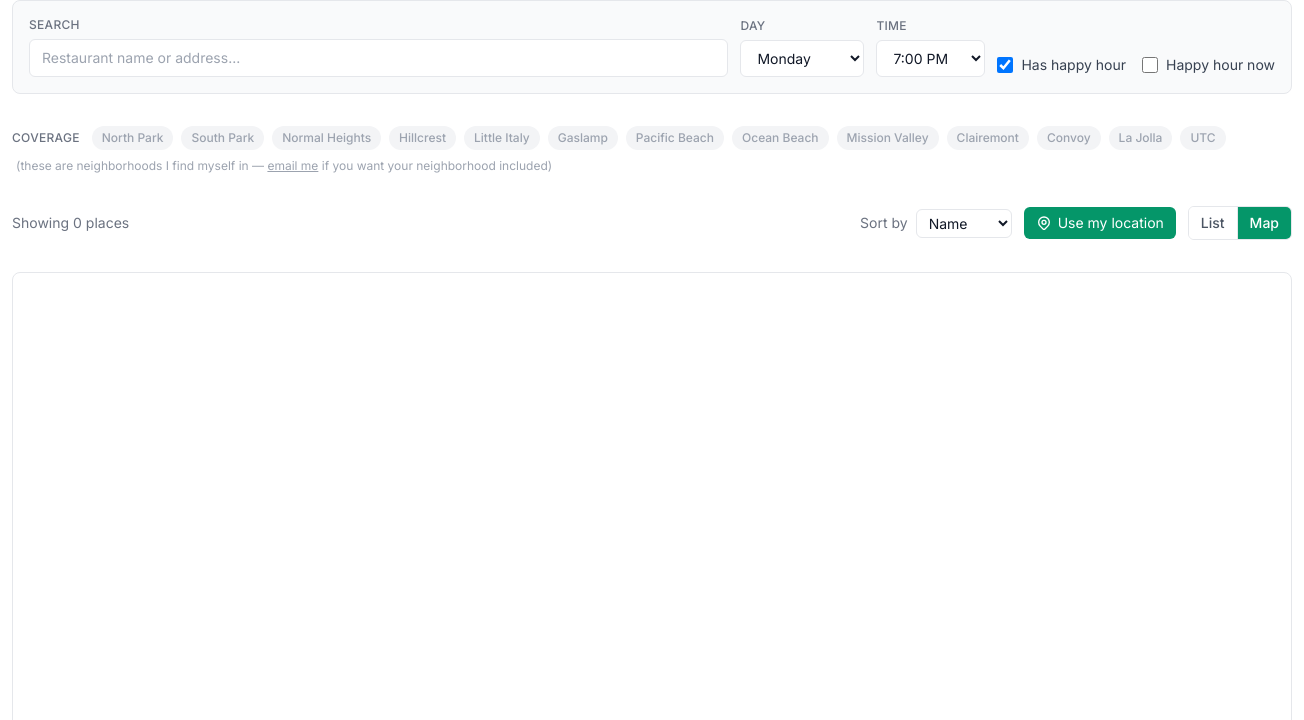
Scenario: HappyHourFinder - Restaurant Display › shows star rating for each place
Click the button "List".
click(1213, 223)  # box [1189, 207, 1237, 239]
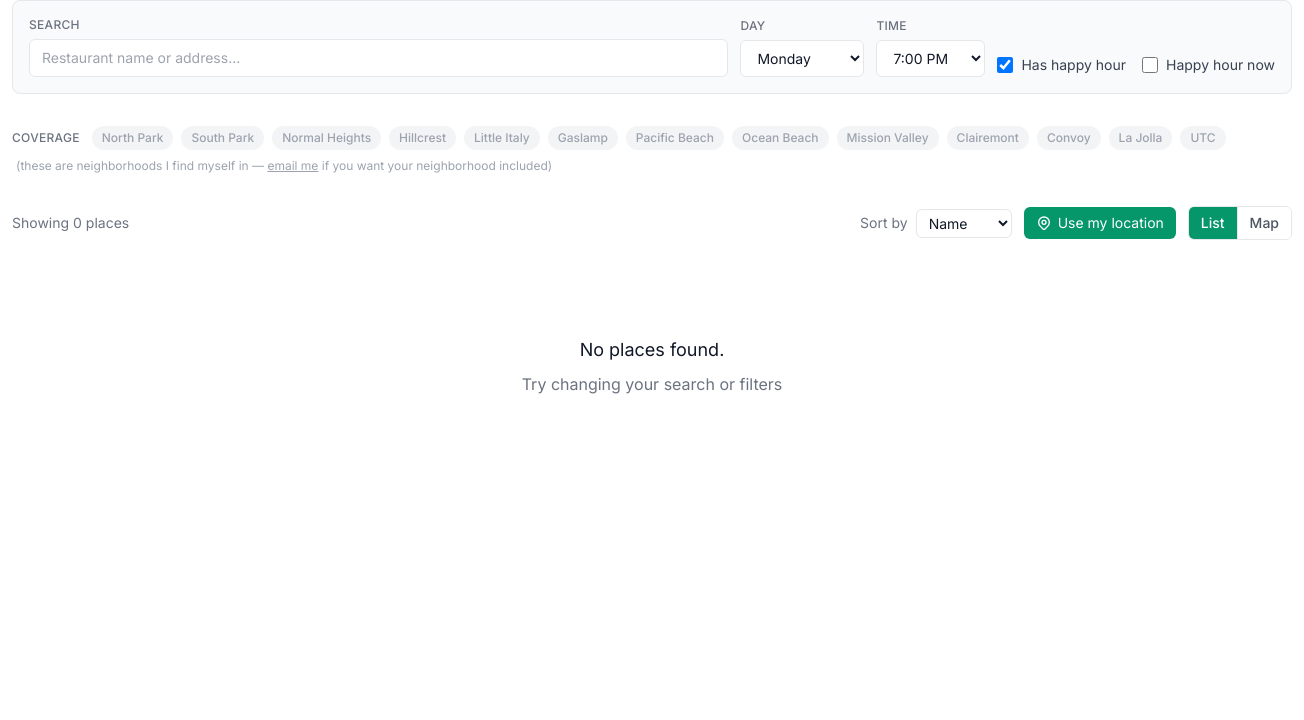
Click the checkbox labelled "Has happy hour".
click(1005, 65)  # box [997, 57, 1013, 73]
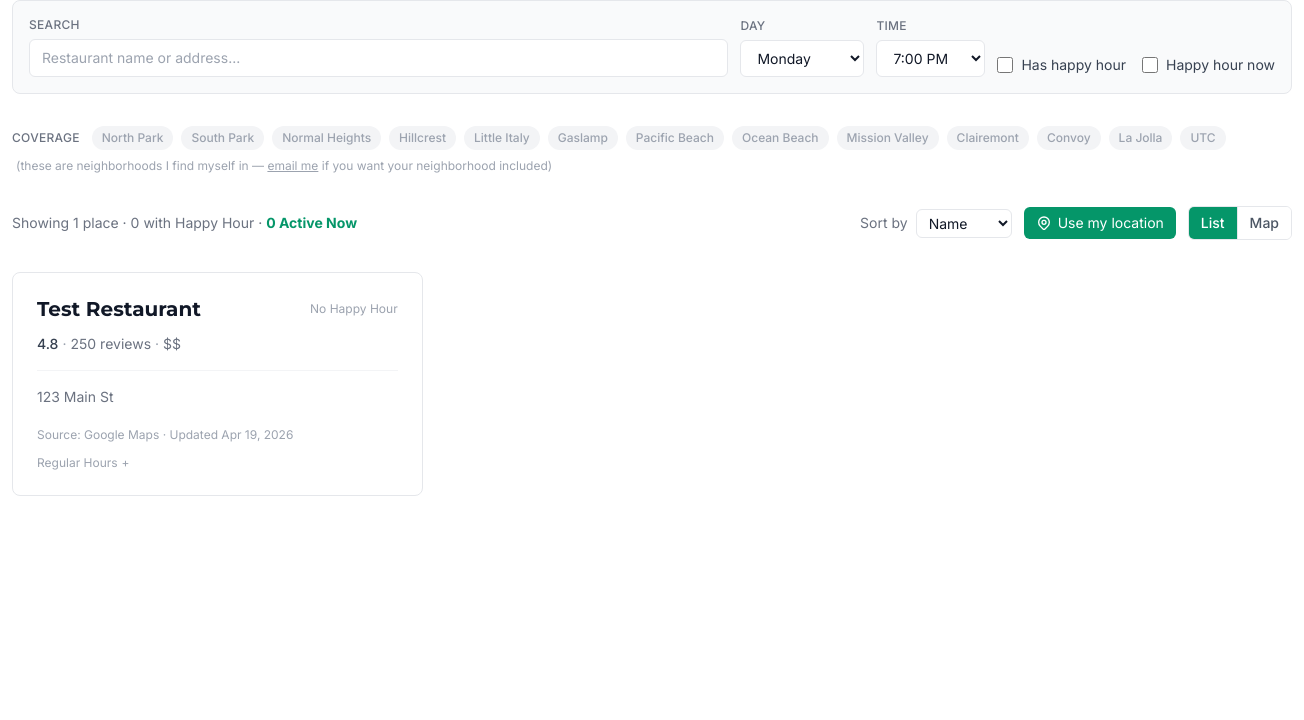
Check: the text "4.8" is shown, box [37, 334, 58, 354]
Check: the text "250 reviews" is shown, box [70, 334, 151, 354]
